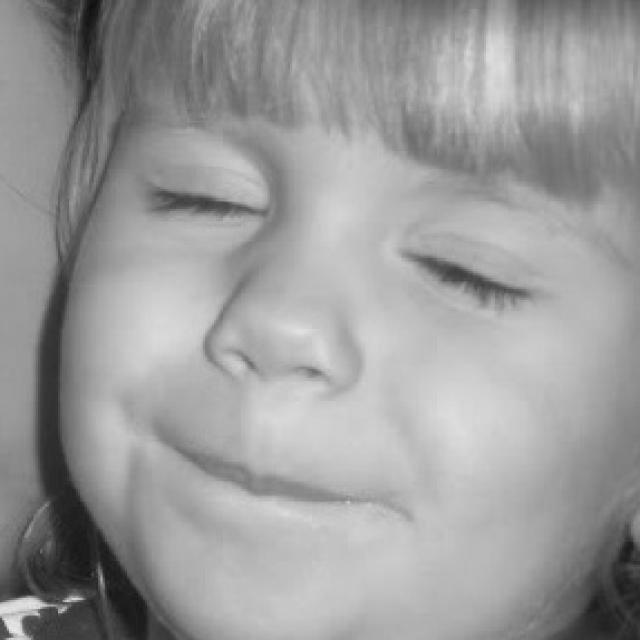real: (100, 36, 604, 580), (128, 144, 570, 332)
